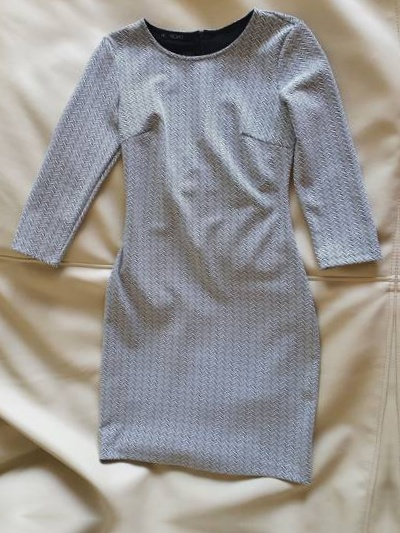Dress: (0, 0, 388, 486)
